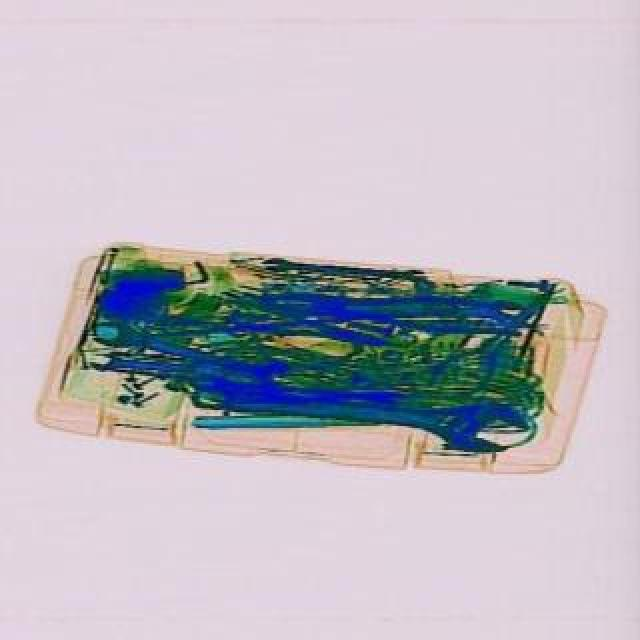scissors: (194, 372, 534, 460), (98, 320, 296, 394), (266, 258, 430, 286), (356, 300, 524, 324), (90, 348, 194, 384)
wrench: (424, 282, 568, 416)
